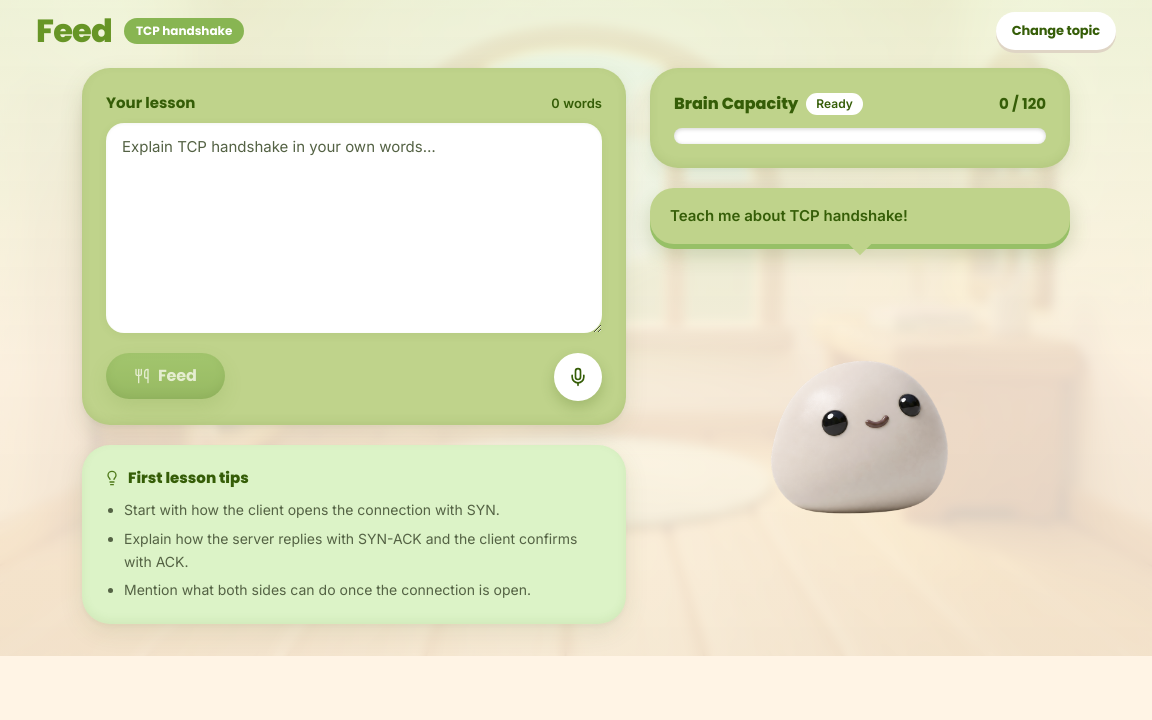
Test: Mic support & Consent dialog (Feed) › opens the consent dialog on first mic tap with listening Nog art, privacy link, and Allow / decline actions
Click the button named "Record voice lesson" at (578, 376), box [554,352,602,400]
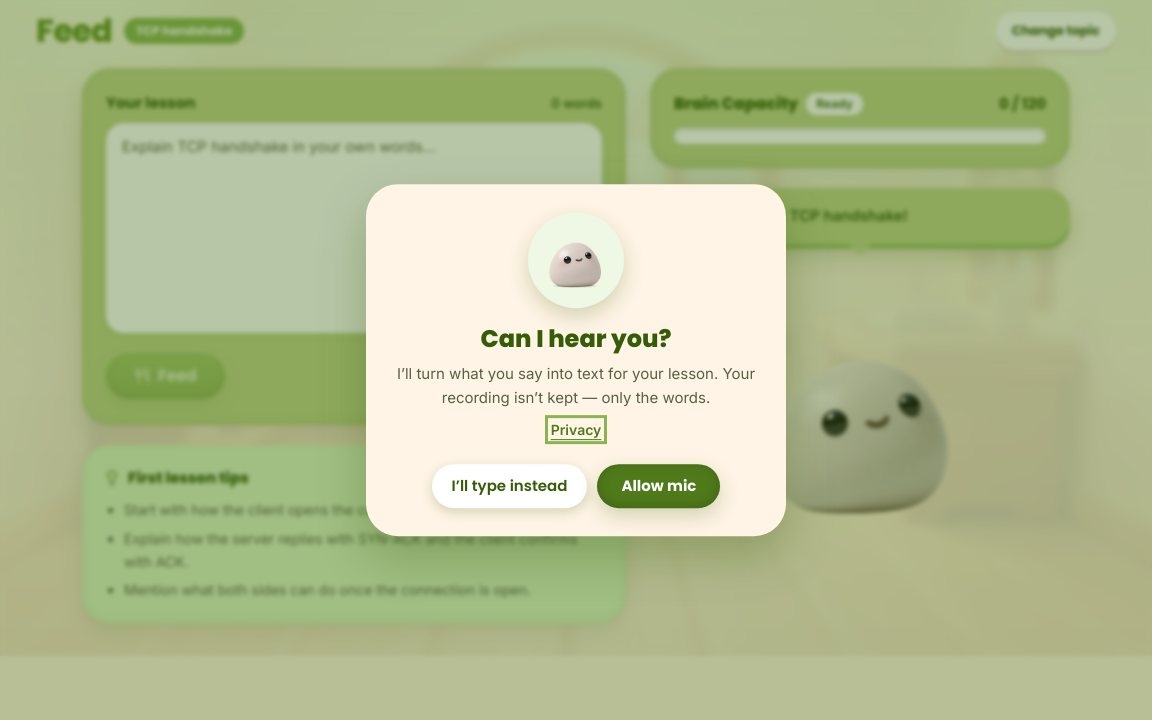
Check: the dialog is shown, box [366,184,786,536]
Check: the heading "Can I hear you?" is shown, box [481,322,671,355]
Check: the picture named "Listening Nog" is shown, box [536,220,616,300]
